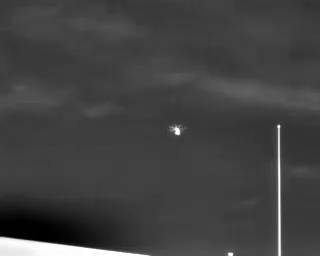HELICOPTER: (163, 119, 191, 141)
